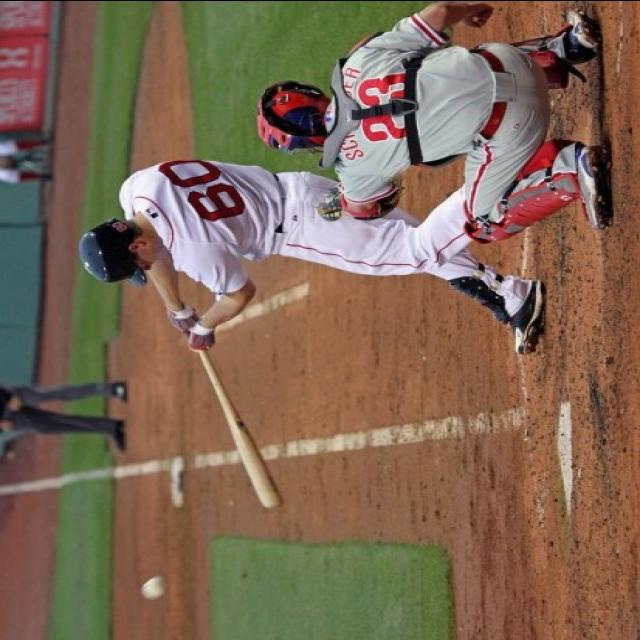bat: (195, 348, 289, 513)
